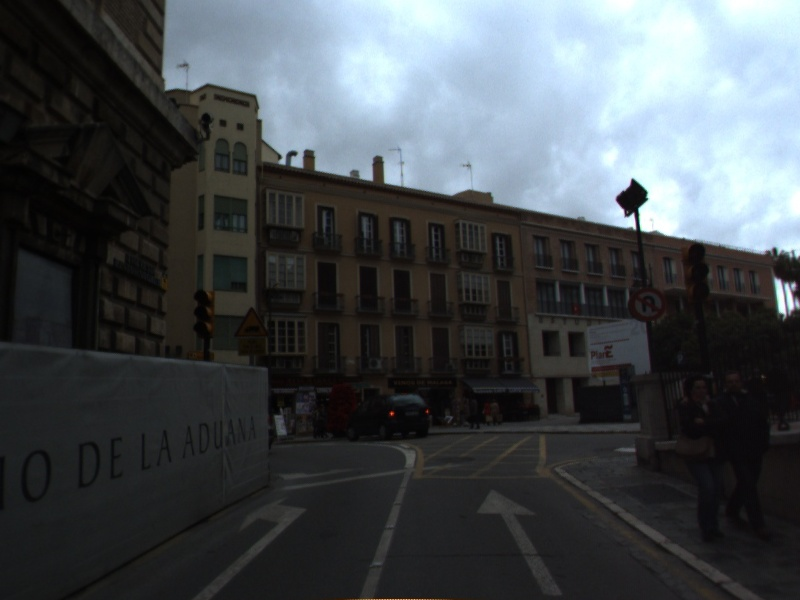LEFT: (189, 495, 309, 600)
STRAIGHT: (475, 488, 570, 597)
